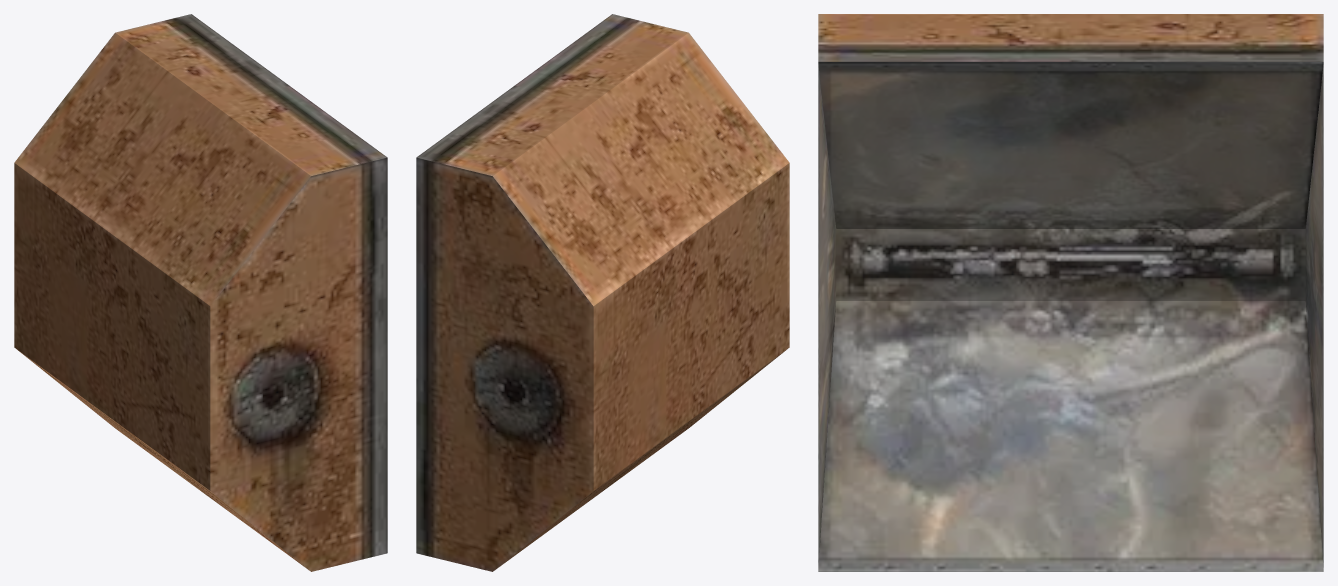
The model's file is light_decklight01_off.glb.
3 renders of one model, left to right at view 1: azimuth 30°, elevation 25°; view 2: azimuth 150°, elevation 25°; view 3: azimuth 270°, elevation 25°, orthographic. The views are drawn at different scales.
Visible parts, largest first — view 1: 0_metaldecklighthousing01; view 2: 0_metaldecklighthousing01; view 3: 2_metaldecklight01bulbOff01, 0_metaldecklighthousing01, 1_metaldecklight01glass01.
Part boxes in pixels (left/top/right/bottom): 0_metaldecklighthousing01: left=14, top=14, right=387, bottom=571; 0_metaldecklighthousing01: left=416, top=14, right=789, bottom=571; 2_metaldecklight01bulbOff01: left=818, top=62, right=1323, bottom=571; 0_metaldecklighthousing01: left=818, top=14, right=1323, bottom=61; 1_metaldecklight01glass01: left=863, top=63, right=1117, bottom=205.
Size of the model in its own units: 0.2544 by 0.5429 by 0.4878.
Materials: 3 (3 with a texture image).
